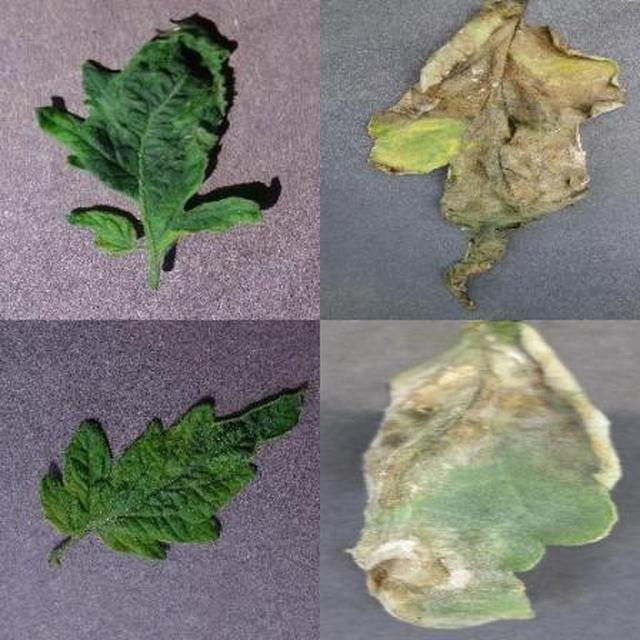Mosaic Virus Leaf: (214, 195, 640, 640)
